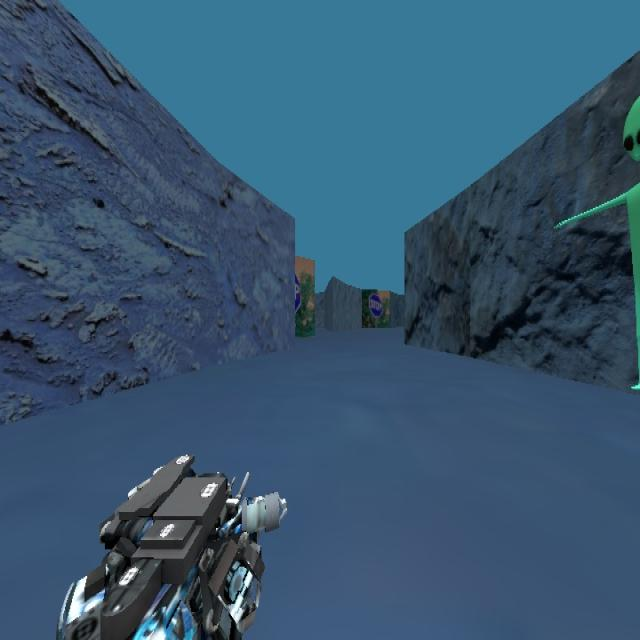Alien: (552, 93, 639, 391)
Stop_Sign: (362, 288, 391, 328), (368, 292, 383, 317), (294, 272, 302, 313)
